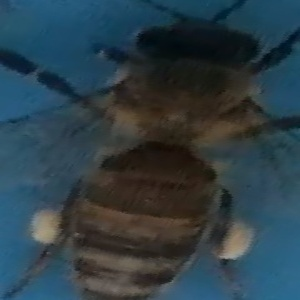bee: (20, 8, 298, 300)
